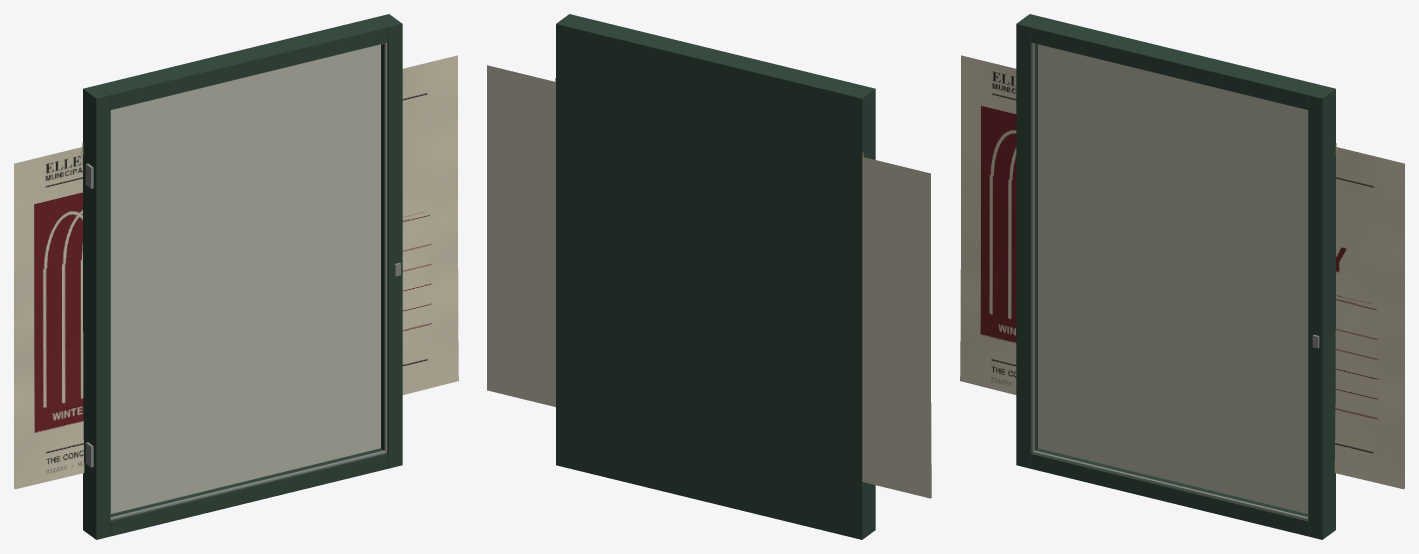
Rendered from institution-posters.glb.
3 renders of one model, left to right at view 1: azimuth 30°, elevation 25°; view 2: azimuth 150°, elevation 25°; view 3: azimuth 330°, elevation 25°, orthographic.
Parts seen in each view (by area): view 1: institution_poster_case, institution_poster_season_taped, institution_poster_season_flat; view 2: institution_poster_case, institution_poster_season_flat; view 3: institution_poster_case, institution_poster_season_taped.
Boxes of the visible parts, left/top/right/bottom form: institution_poster_case: left=83, top=14, right=402, bottom=539; institution_poster_season_taped: left=14, top=55, right=458, bottom=489; institution_poster_season_flat: left=14, top=157, right=41, bottom=488; institution_poster_case: left=556, top=14, right=875, bottom=539; institution_poster_season_flat: left=487, top=65, right=930, bottom=498; institution_poster_case: left=1016, top=14, right=1335, bottom=539; institution_poster_season_taped: left=960, top=55, right=1404, bottom=489.
Size of the model in its own units: 1 by 0.95 by 0.058.
20 materials, 15 textured.
